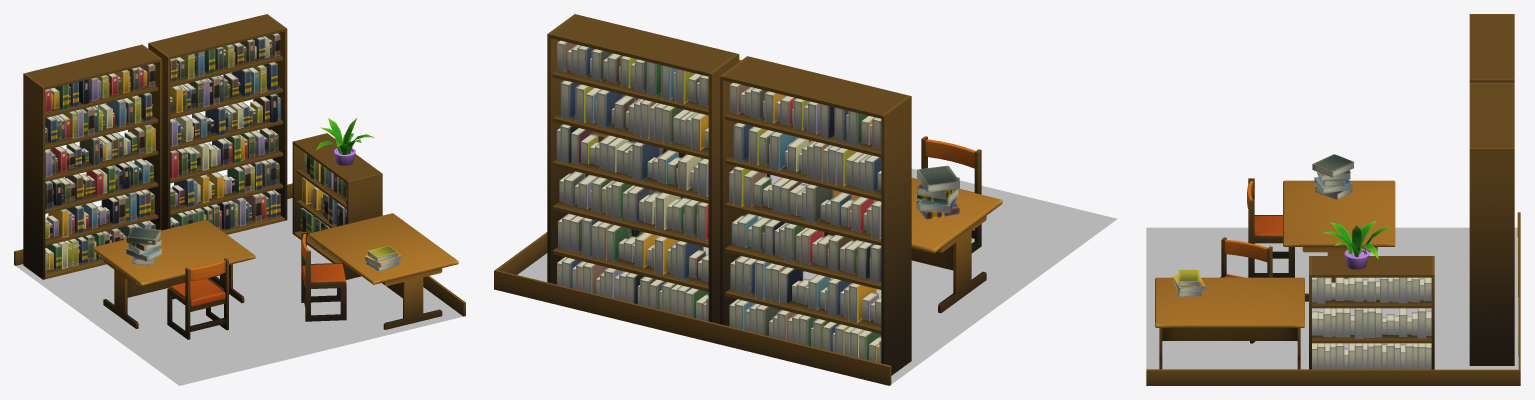
The model's file is library.fbx.
3 renders of one model, left to right at view 1: azimuth 30°, elevation 25°; view 2: azimuth 150°, elevation 25°; view 3: azimuth 270°, elevation 25°, orthographic. The views are drawn at different scales.
Visible parts, largest first — view 1: Object_14, Object_3, Object_9, Object_10, Object_15, Object_11, Object_8, Object_4; view 2: Object_14, Object_10, Object_9, Object_3, Object_15, Object_8, Object_11; view 3: Object_14, Object_3, Object_15, Object_8, Object_11, Object_4.
Part boxes in pixels (left/top/right/bottom): Object_14: left=14, top=14, right=465, bottom=316; Object_3: left=16, top=198, right=462, bottom=385; Object_9: left=170, top=33, right=280, bottom=230; Object_10: left=45, top=63, right=155, bottom=272; Object_15: left=92, top=213, right=458, bottom=329; Object_11: left=167, top=232, right=346, bottom=339; Object_8: left=126, top=152, right=400, bottom=271; Object_4: left=315, top=118, right=374, bottom=165; Object_14: left=494, top=14, right=911, bottom=385; Object_10: left=729, top=82, right=881, bottom=363; Object_9: left=556, top=40, right=708, bottom=321; Object_3: left=517, top=168, right=1117, bottom=384; Object_15: left=701, top=59, right=1002, bottom=313; Object_8: left=628, top=140, right=959, bottom=237; Object_11: left=767, top=136, right=981, bottom=253; Object_14: left=1146, top=14, right=1520, bottom=385; Object_3: left=1146, top=227, right=1518, bottom=369; Object_15: left=1155, top=180, right=1395, bottom=369; Object_8: left=1172, top=154, right=1431, bottom=369; Object_11: left=1220, top=178, right=1294, bottom=343; Object_4: left=1323, top=220, right=1391, bottom=269.
Size of the model in its own units: 7155 by 4579 by 7155.
